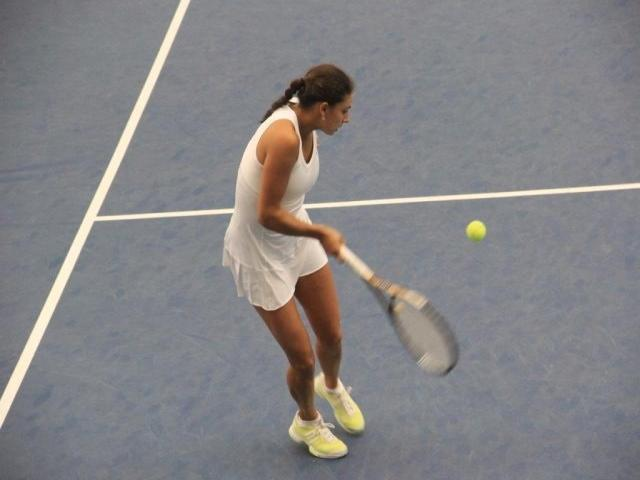tennis-ball: (466, 219, 486, 241)
